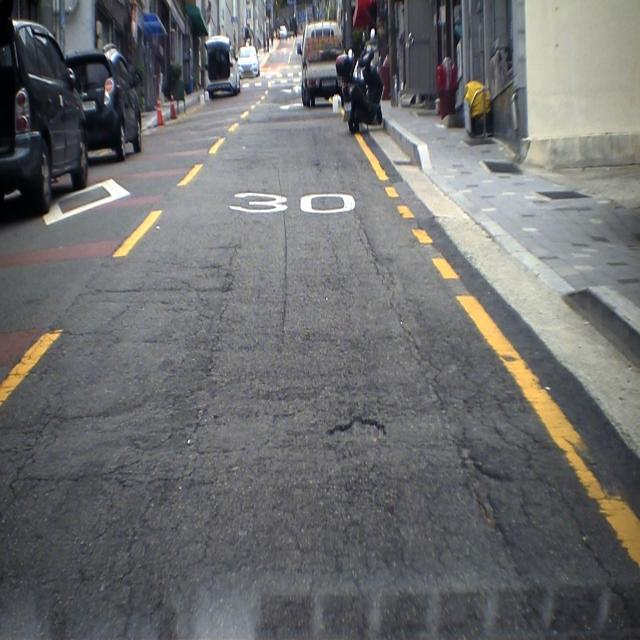Pothole: (450, 434, 512, 541), (318, 402, 391, 450)
